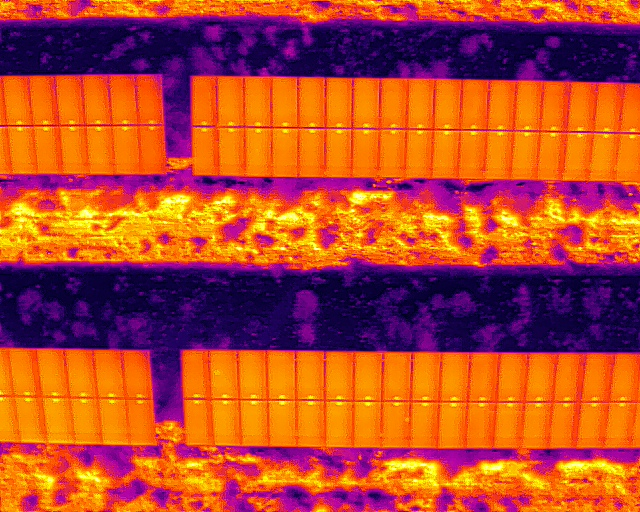photovoltaic_panels: (190, 73, 638, 185), (179, 347, 637, 451), (1, 72, 168, 176), (1, 346, 158, 447)
single_spot: (379, 400, 411, 448)
